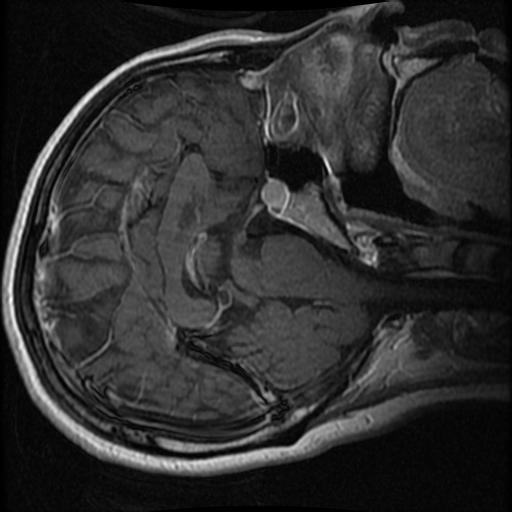pituitary tumour: (261, 179, 287, 210)
